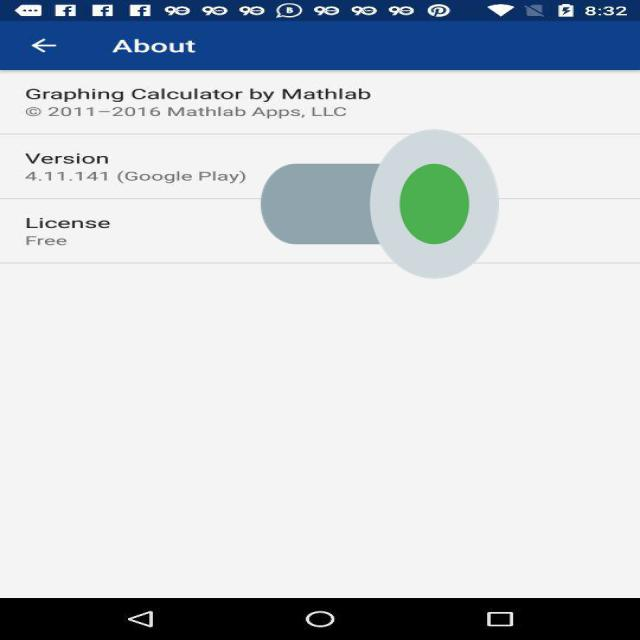social proof: (261, 66, 499, 342)
